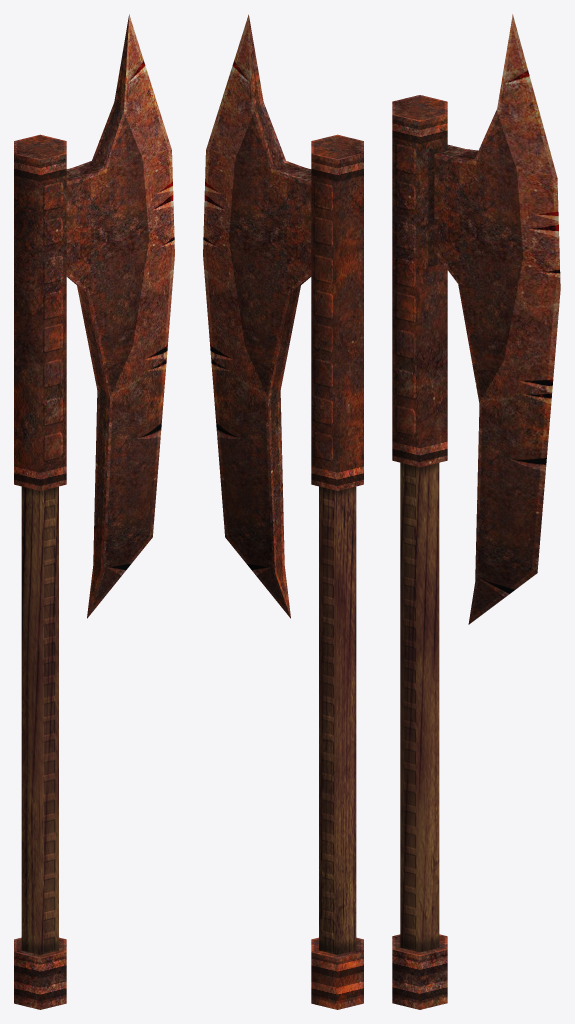
File: axe08_rusty.FBX
The picture shows the model from 3 angles, left to right: view 1: azimuth 30°, elevation 25°; view 2: azimuth 150°, elevation 25°; view 3: azimuth 330°, elevation 25°; orthographic projection. The views are drawn at different scales.
Visible parts, largest first — view 1: axe08; view 2: axe08; view 3: axe08.
Part boxes in pixels (x1,y1,x2,y2): axe08: [14, 14, 174, 1009]; axe08: [203, 14, 363, 1009]; axe08: [392, 14, 560, 1009].
Size of the model in its own units: 0.3401 by 1.94 by 0.0966.
